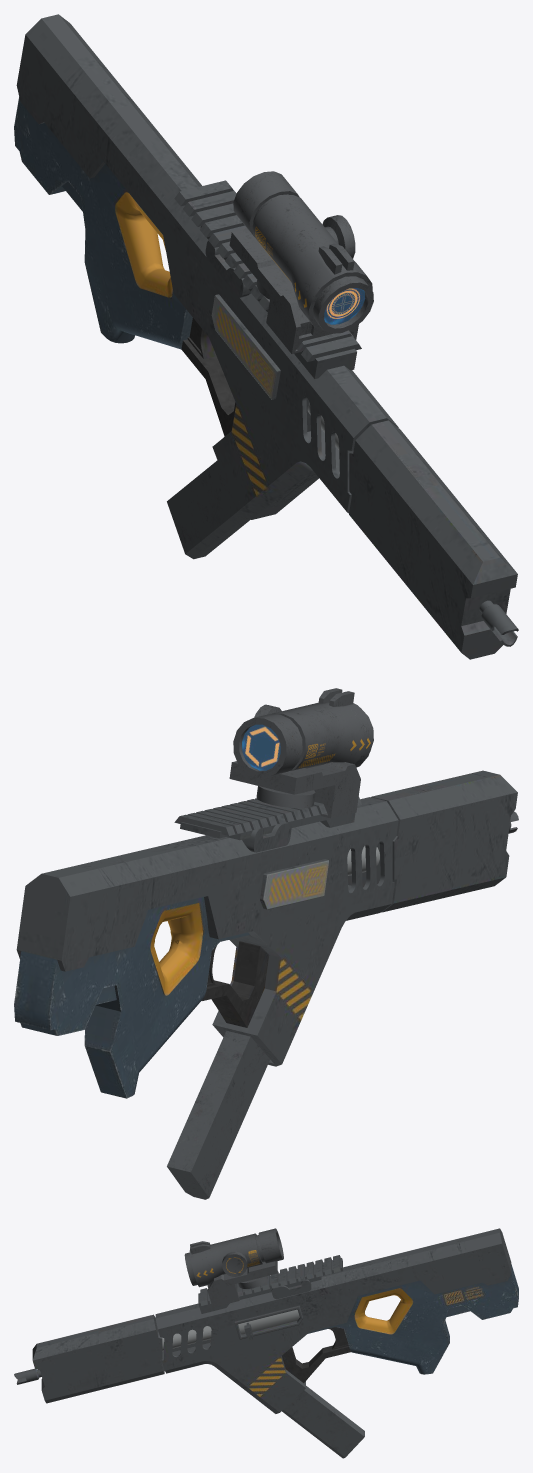
The picture shows the model from 3 angles, top to bottom: view 1: azimuth 30°, elevation 25°; view 2: azimuth 150°, elevation 25°; view 3: azimuth 270°, elevation 25°; orthographic projection. The views are drawn at different scales.
Parts seen in each view (by area): view 1: ar_h470; view 2: ar_h470; view 3: ar_h470.
Boxes of the visible parts, x1=… form: ar_h470: x1=14, y1=14, x2=518, y2=659; ar_h470: x1=14, y1=688, x2=518, y2=1199; ar_h470: x1=14, y1=1228, x2=518, y2=1458.
Bounding box in the file's own units: 0.0754 × 0.4068 × 0.82.
3 materials, 3 textured.
